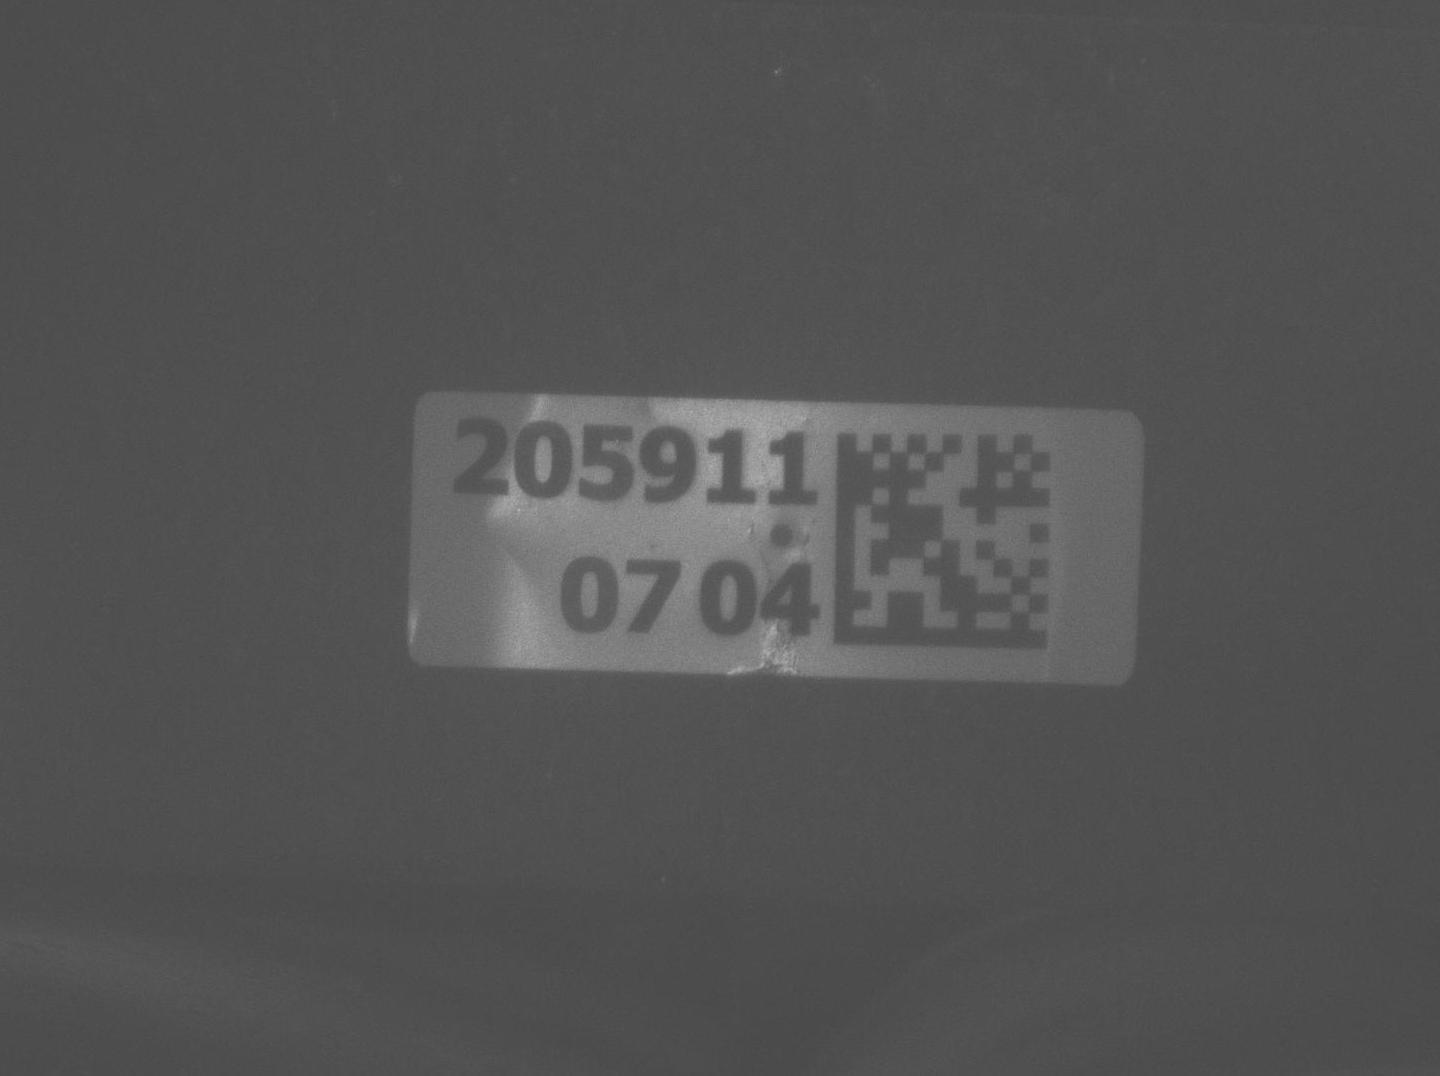data matrix: (822, 416, 1075, 665)
